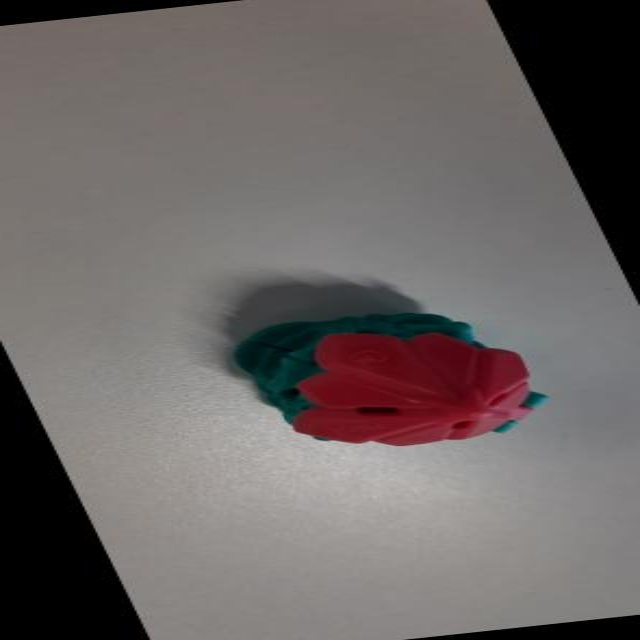House: (202, 292, 568, 469)
